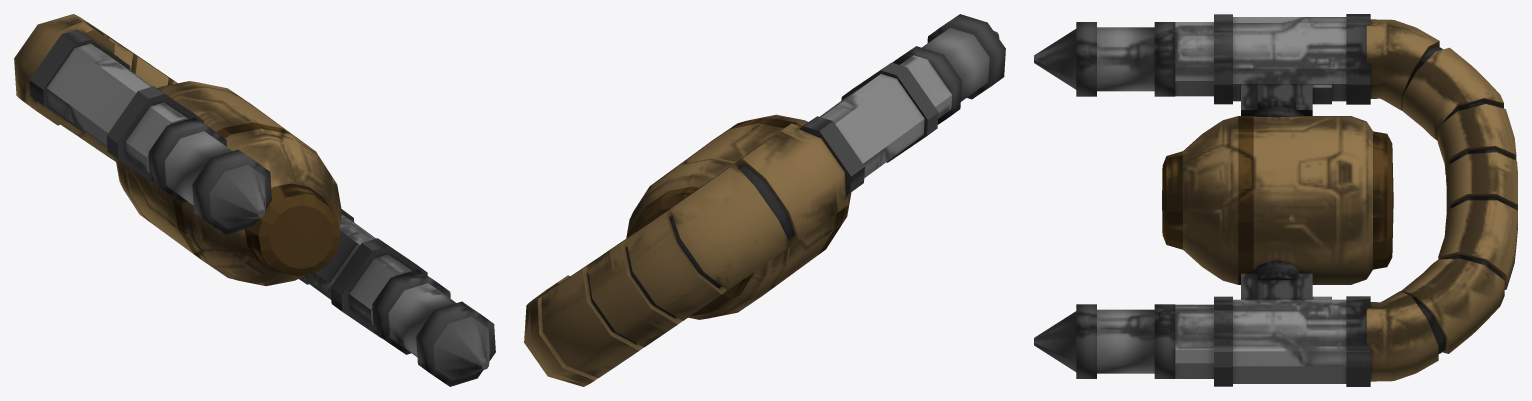
The model's file is newsh2-191-f2.glb.
3 renders of one model, left to right at view 1: azimuth 30°, elevation 25°; view 2: azimuth 150°, elevation 25°; view 3: azimuth 270°, elevation 25°, orthographic. The views are drawn at different scales.
Parts seen in each view (by area): view 1: newsh2-191-f2; view 2: newsh2-191-f2; view 3: newsh2-191-f2.
Boxes of the visible parts, <box> form: newsh2-191-f2: <box>14,14,495,386</box>; newsh2-191-f2: <box>524,14,1005,386</box>; newsh2-191-f2: <box>1034,14,1517,386</box>.
Size of the model in its own units: 1.04 by 0.9547 by 1.57.
7 materials, 7 textured.
